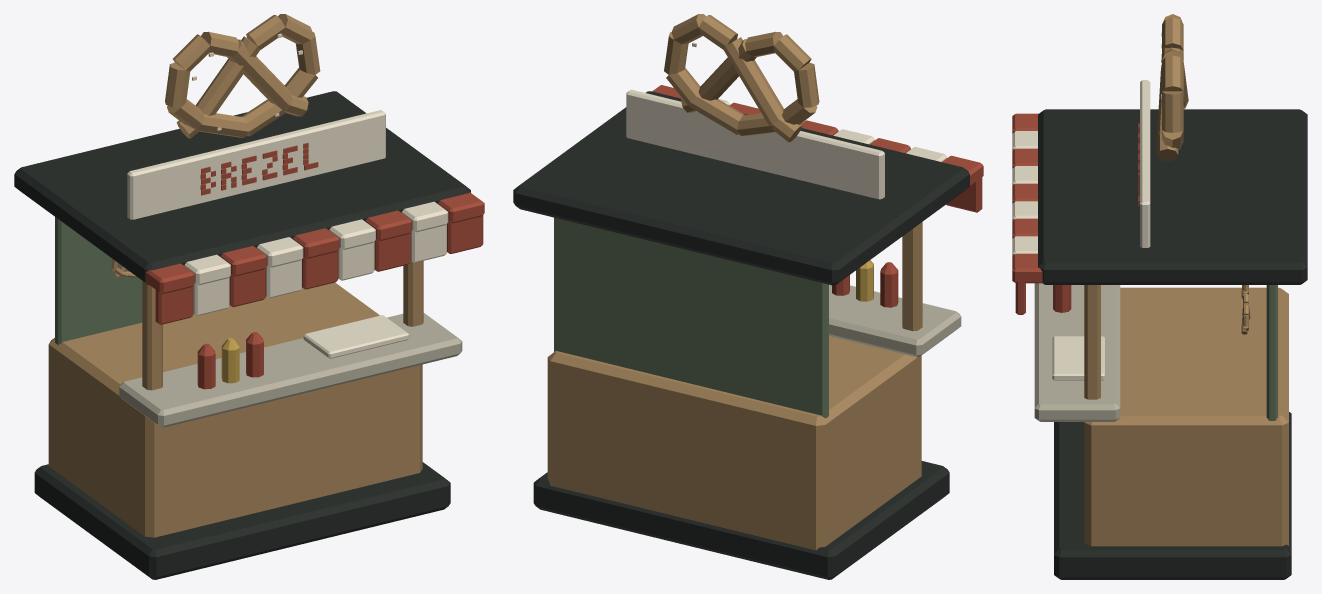
The model's file is pretzel-kiosk.glb.
3 renders of one model, left to right at view 1: azimuth 30°, elevation 25°; view 2: azimuth 150°, elevation 25°; view 3: azimuth 270°, elevation 25°, orthographic.
Visible parts, largest first — view 1: pretzel-kiosk; view 2: pretzel-kiosk; view 3: pretzel-kiosk.
Boxes of the visible parts, left/top/right/bottom form: pretzel-kiosk: left=14, top=14, right=484, bottom=579; pretzel-kiosk: left=513, top=14, right=983, bottom=579; pretzel-kiosk: left=1012, top=14, right=1307, bottom=579.
Size of the model in its own units: 2.7 by 3.79 by 2.13.
